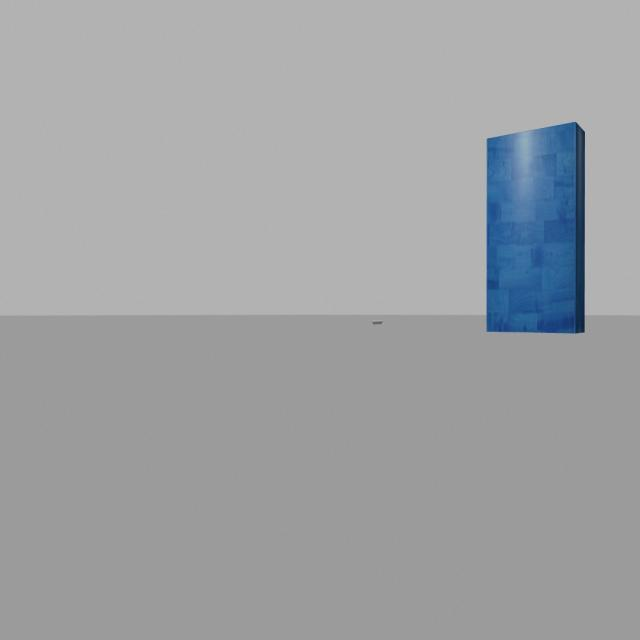bowl: (372, 317, 386, 328)
shelf: (483, 115, 588, 341)
